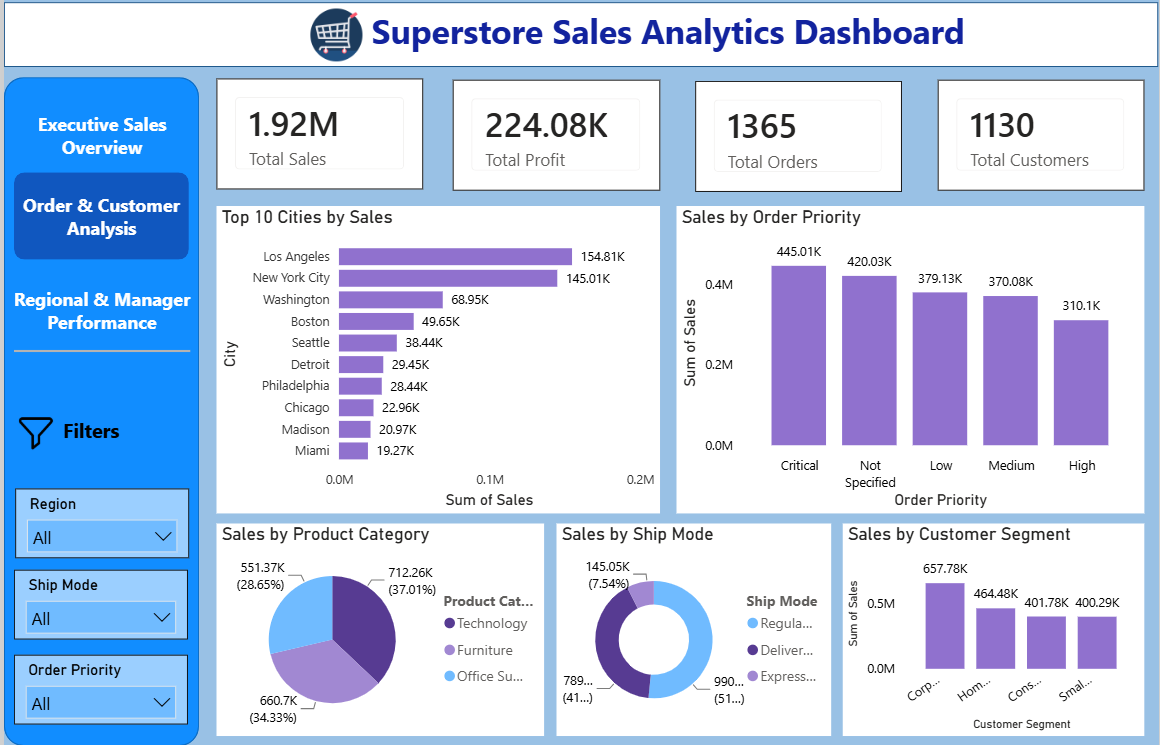

What the dashboard file says about the page in this screenshot:
{"tool":"powerbi","page":{"name":"Order & Customer Analysis","canvas":[1100,720],"ordinal":1},"visuals":[{"type":"textbox","box":[0,10.7,1099,61.9],"z":0},{"type":"cardVisual","fields":{"Data":["Orders.Total sales"]},"box":[202.4,83.3,197,106],"z":1000},{"type":"cardVisual","fields":{"Data":["Orders.Total Profit"]},"box":[427.4,84.5,197.6,106],"z":2000},{"type":"cardVisual","fields":{"Data":["Orders.Total orders"]},"box":[658.3,85.7,196.4,106],"z":3000},{"type":"cardVisual","fields":{"Data":["Orders.Total customers"]},"box":[889.3,84.5,196.4,106],"z":4000},{"type":"shape","box":[0,82.1,185.7,636.9],"z":5000},{"type":"slicer","fields":{"Values":["Orders.Region"]},"box":[10.7,473.8,165.5,66.7],"z":6000},{"type":"barChart","title":"Top 10 Cities by Sales","fields":{"Category":["Orders.City"],"Y":["Sum(Orders.Sales)"]},"box":[202.4,204.8,422.6,292.9],"z":7000},{"type":"pieChart","title":"Sales by Product Category","fields":{"Category":["Orders.Product Category"],"Y":["Sum(Orders.Sales)"]},"box":[202.4,507.1,311.9,202.4],"z":8000},{"type":"columnChart","title":" Sales by Order Priority","fields":{"Y":["Sum(Orders.Sales)"],"Category":["Orders.Order Priority"]},"box":[640.5,204.8,445.2,292.9],"z":9000},{"type":"columnChart","title":"Sales by Customer Segment","fields":{"Category":["Orders.Customer Segment"],"Y":["Sum(Orders.Sales)"]},"box":[798.8,507.1,286.9,202.4],"z":10000},{"type":"actionButton","title":"Executive Overview","box":[10.7,101.2,165.5,71.4],"z":11000},{"type":"actionButton","title":"Executive Overview","box":[9.5,172.6,166.7,83.3],"z":12000},{"type":"actionButton","title":"Executive Overview","box":[4.8,265.5,177.4,77.4],"z":13000},{"type":"slicer","fields":{"Values":["Orders.Order Priority"]},"box":[9.5,632.1,165.5,66.7],"z":14000},{"type":"slicer","fields":{"Values":["Orders.Ship Mode"]},"box":[9.5,551.2,165.5,66.7],"z":15000},{"type":"donutChart","title":"Sales by Ship Mode","fields":{"Y":["Sum(Orders.Sales)"],"Category":["Orders.Ship Mode"]},"box":[526.2,507.1,261.9,202.4],"z":16000},{"type":"image","box":[275,16.7,83.3,50],"z":17000},{"type":"shape","box":[9.5,322.6,167.9,40.5],"z":18000},{"type":"image","box":[9.5,401.2,41.7,38.1],"z":19000},{"type":"textbox","box":[51.2,401.2,75,38.1],"z":20000}]}

Visuals, with their boxes in screenshot pixels (x1, y1, x2, y2), scaled from the page's 1100x720 canvas onto the 1160x745 screenshot:
textbox: bbox=[0, 11, 1159, 75]
cardVisual - Orders.Total sales: bbox=[213, 86, 421, 196]
cardVisual - Orders.Total Profit: bbox=[451, 87, 659, 197]
cardVisual - Orders.Total orders: bbox=[694, 89, 901, 198]
cardVisual - Orders.Total customers: bbox=[938, 87, 1145, 197]
shape: bbox=[0, 85, 196, 744]
slicer - Orders.Region: bbox=[11, 490, 186, 559]
"Top 10 Cities by Sales" barChart: bbox=[213, 212, 659, 515]
"Sales by Product Category" pieChart: bbox=[213, 525, 542, 734]
" Sales by Order Priority" columnChart: bbox=[675, 212, 1145, 515]
"Sales by Customer Segment" columnChart: bbox=[842, 525, 1145, 734]
"Executive Overview" actionButton: bbox=[11, 105, 186, 179]
"Executive Overview" actionButton: bbox=[10, 179, 186, 265]
"Executive Overview" actionButton: bbox=[5, 275, 192, 355]
slicer - Orders.Order Priority: bbox=[10, 654, 185, 723]
slicer - Orders.Ship Mode: bbox=[10, 570, 185, 639]
"Sales by Ship Mode" donutChart: bbox=[555, 525, 831, 734]
image: bbox=[290, 17, 378, 69]
shape: bbox=[10, 334, 187, 376]
image: bbox=[10, 415, 54, 455]
textbox: bbox=[54, 415, 133, 455]
